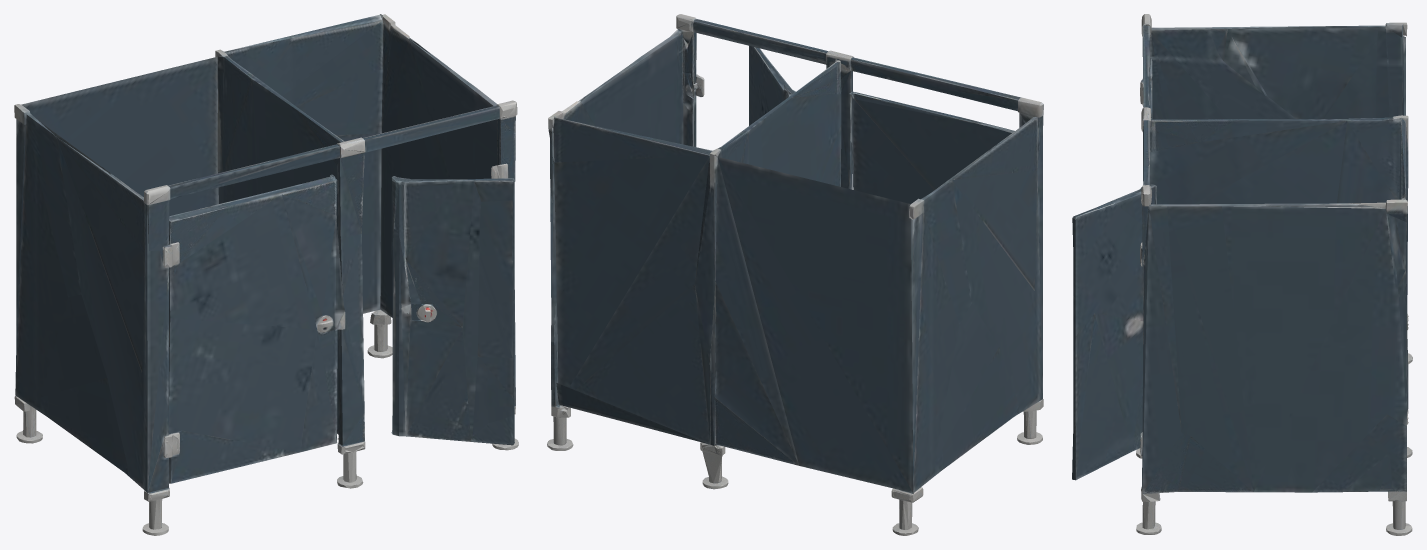
File: stalls.glb
The picture shows the model from 3 angles, left to right: view 1: azimuth 30°, elevation 25°; view 2: azimuth 150°, elevation 25°; view 3: azimuth 270°, elevation 25°; orthographic projection.
Size of the model in its own units: 1.9 by 1.67 by 1.51.
Materials: 1 (1 with a texture image).
